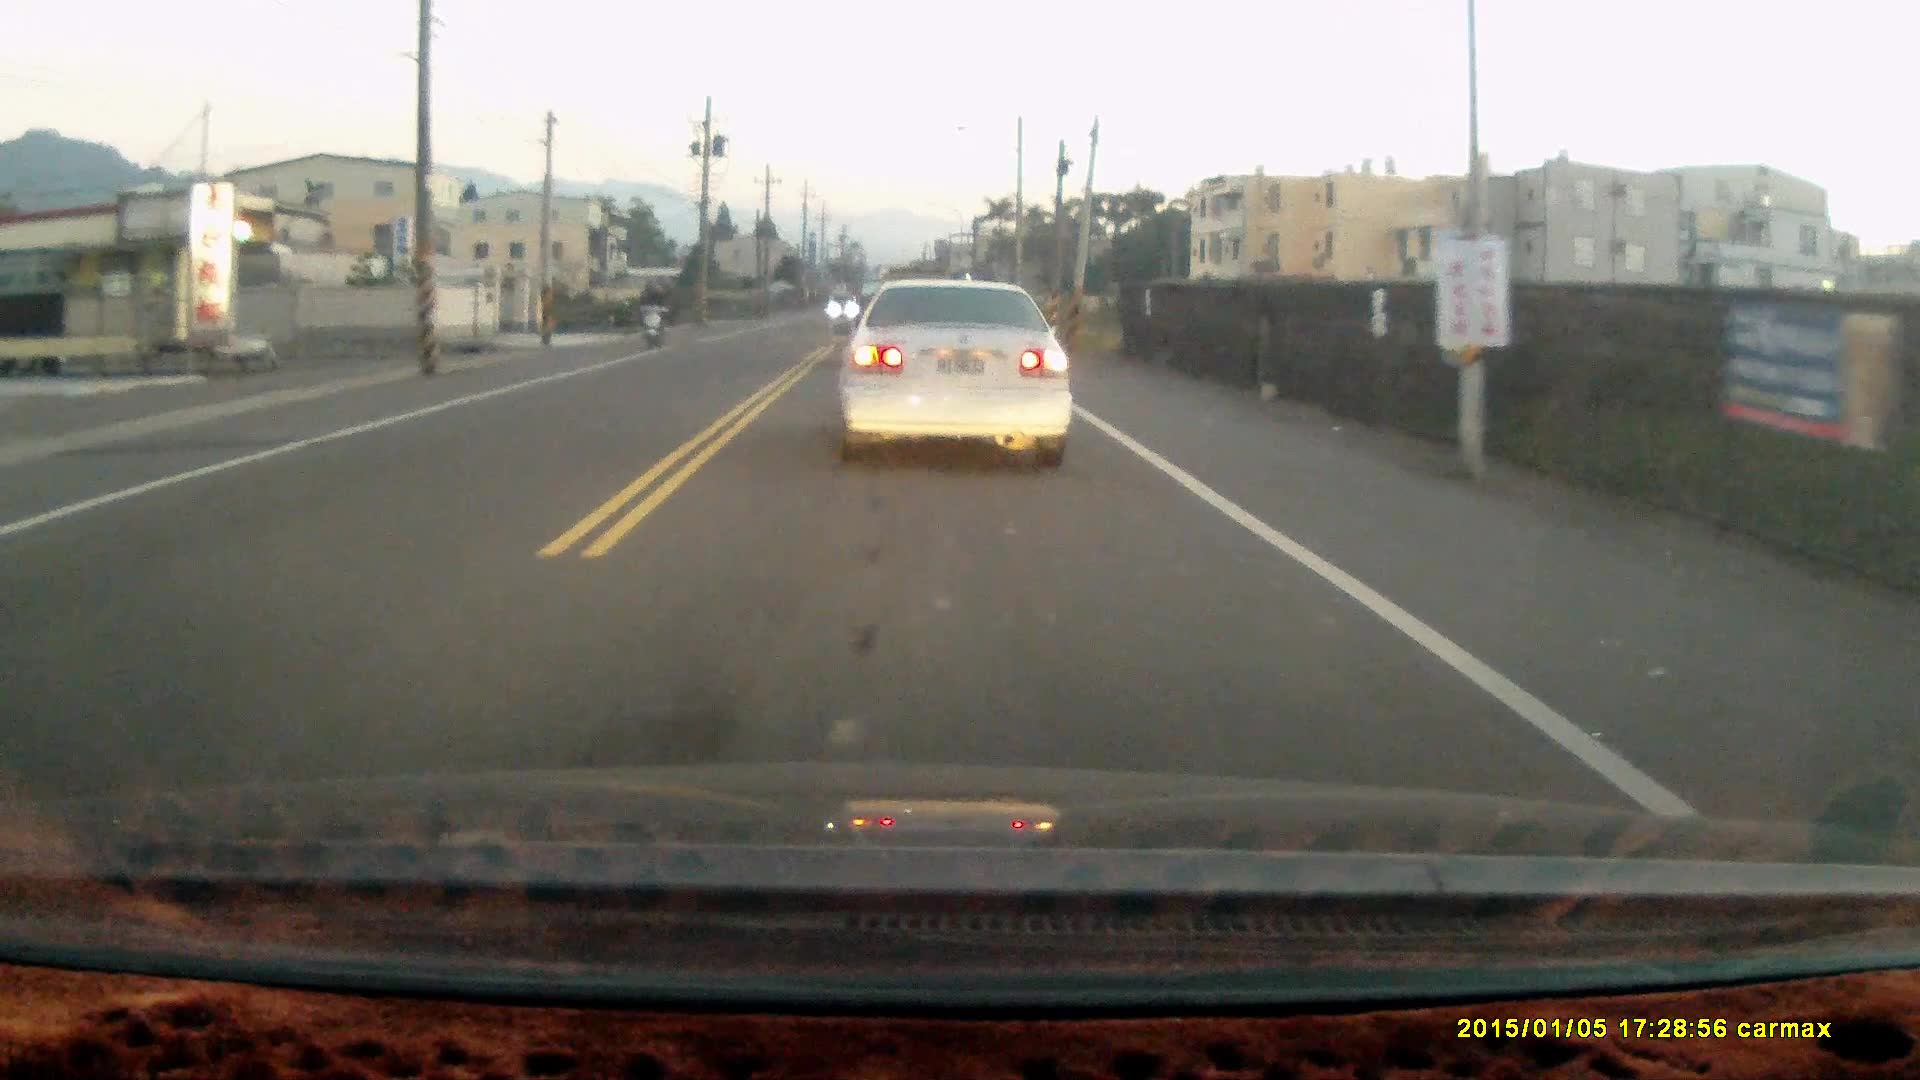rider: (636, 279, 667, 350)
vehicle: (839, 271, 1082, 472)
